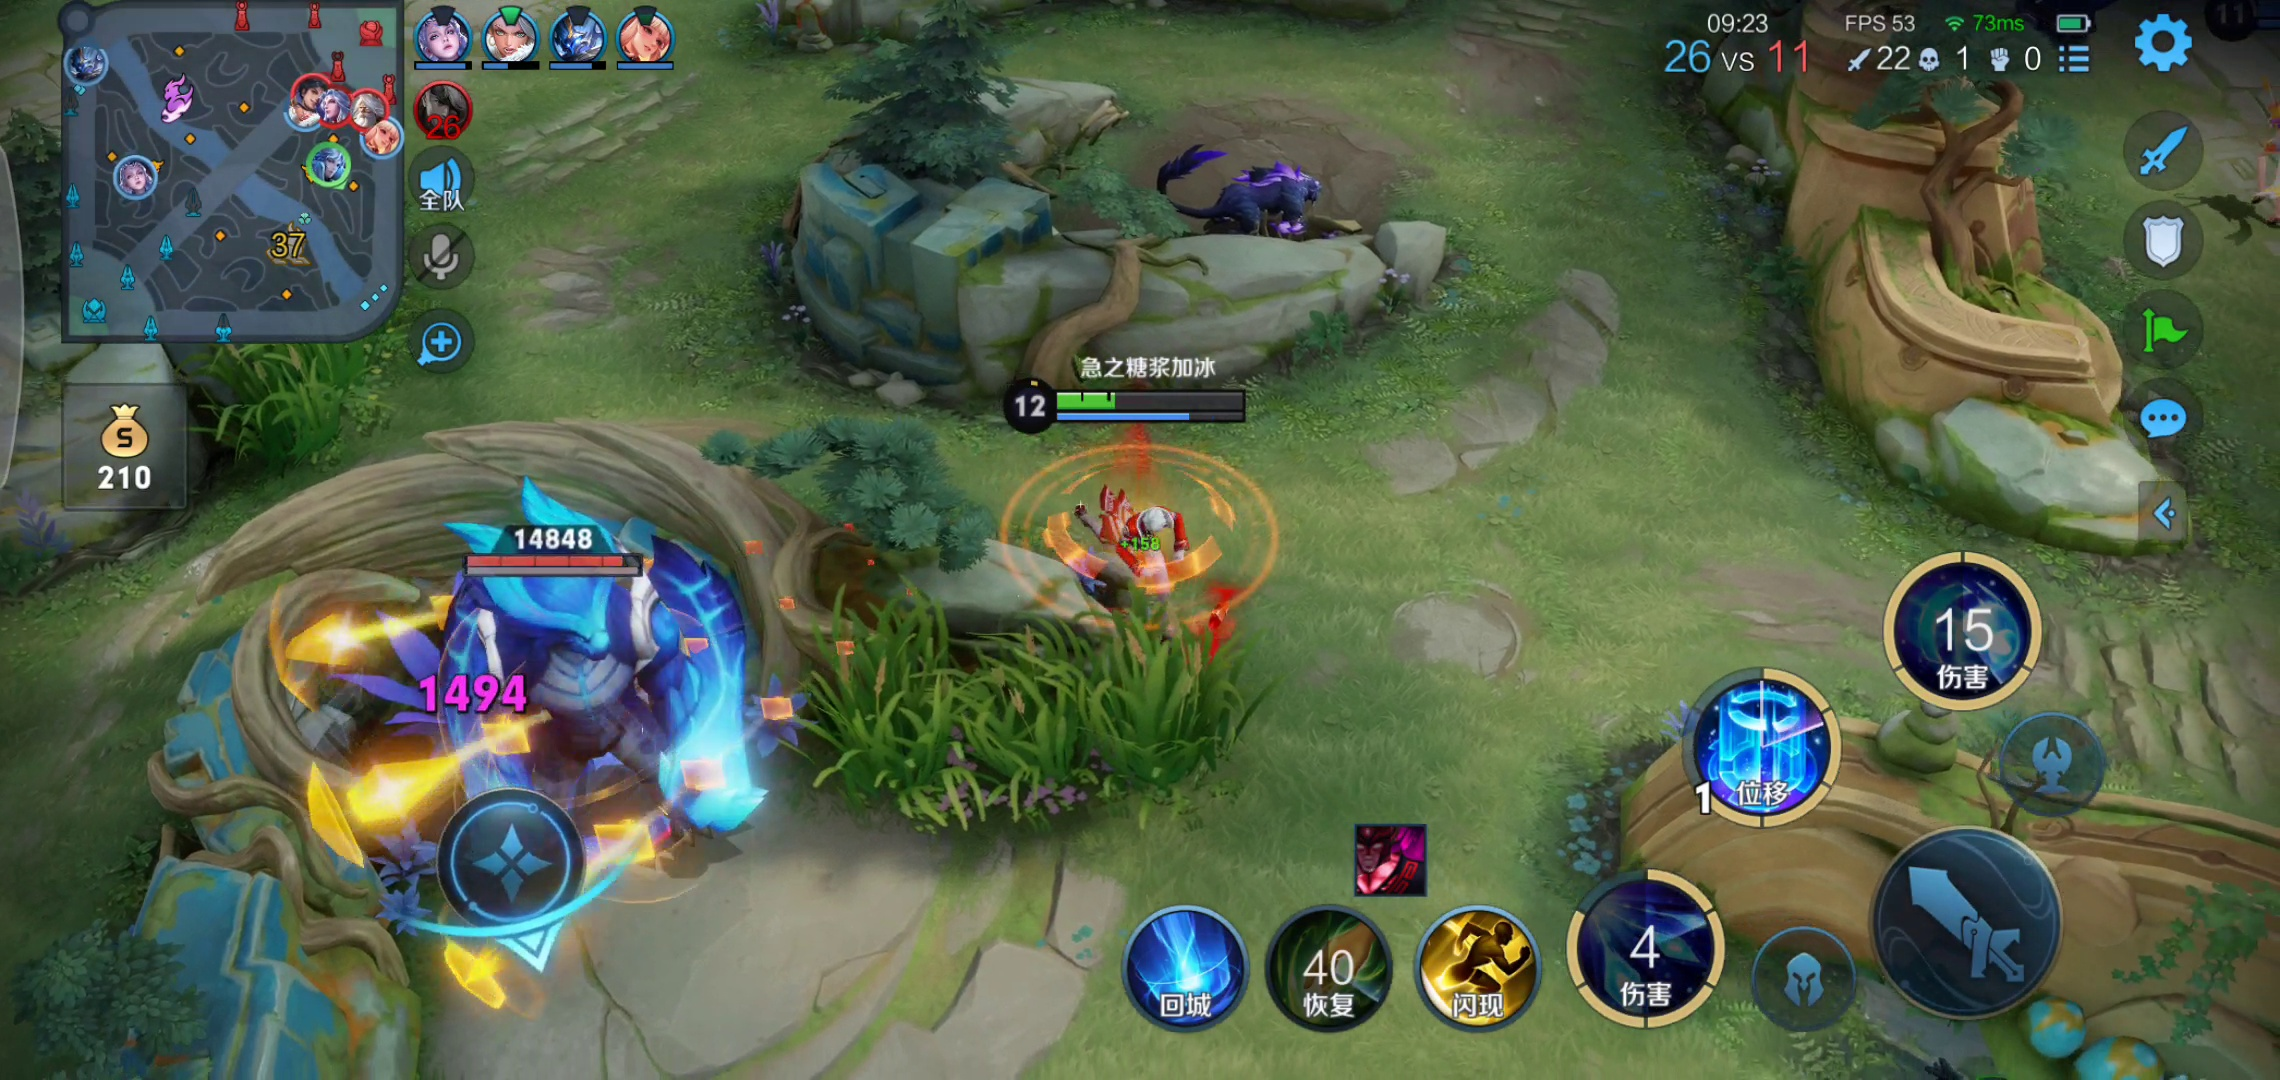buff: (381, 541, 774, 903)
grass: (808, 624, 1280, 830), (144, 281, 382, 454)
hero: (1040, 449, 1223, 629)
